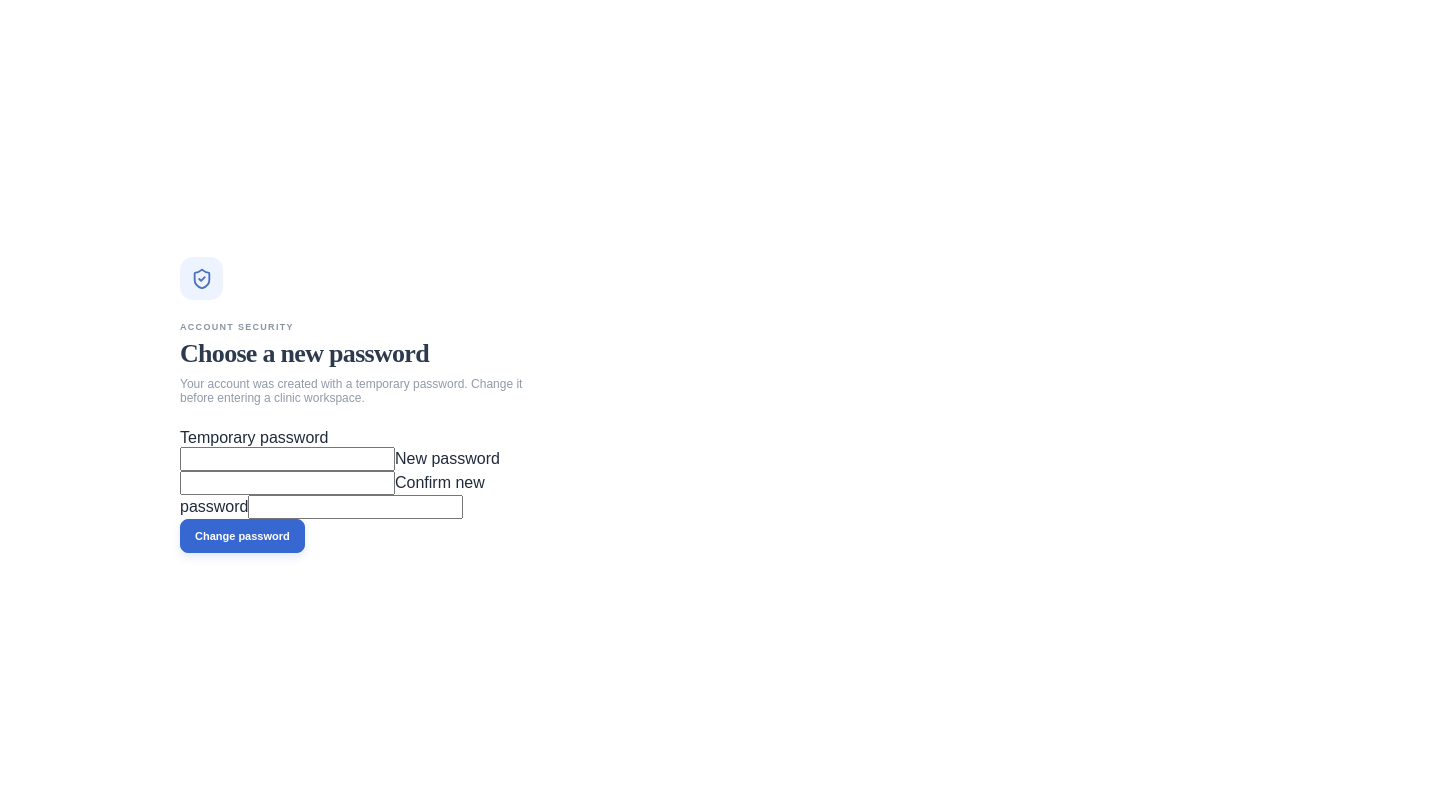
gates a first-login staff session until password change succeeds
The width and height of the screenshot is (1440, 810).
Expected: the heading "Choose a new password" is shown, [180,339,429,368]
Expected: the text "Patients" is not shown
Type "temporary-password" into the password field labelled "Temporary password" at (288, 459), box [180,447,395,471]
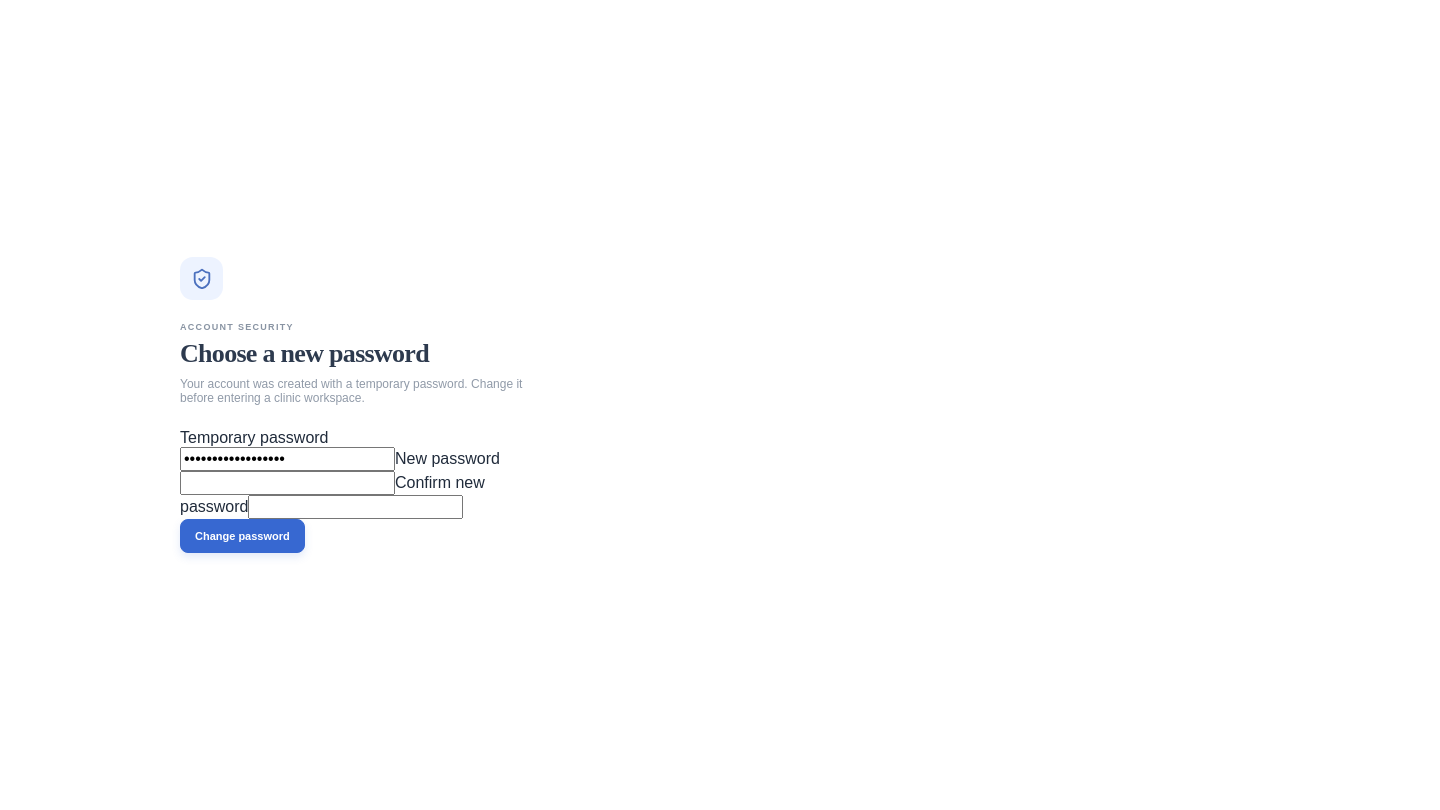
Type "A-new-password-123!" into the password field labelled "New password" at (288, 483), box [180,471,395,495]
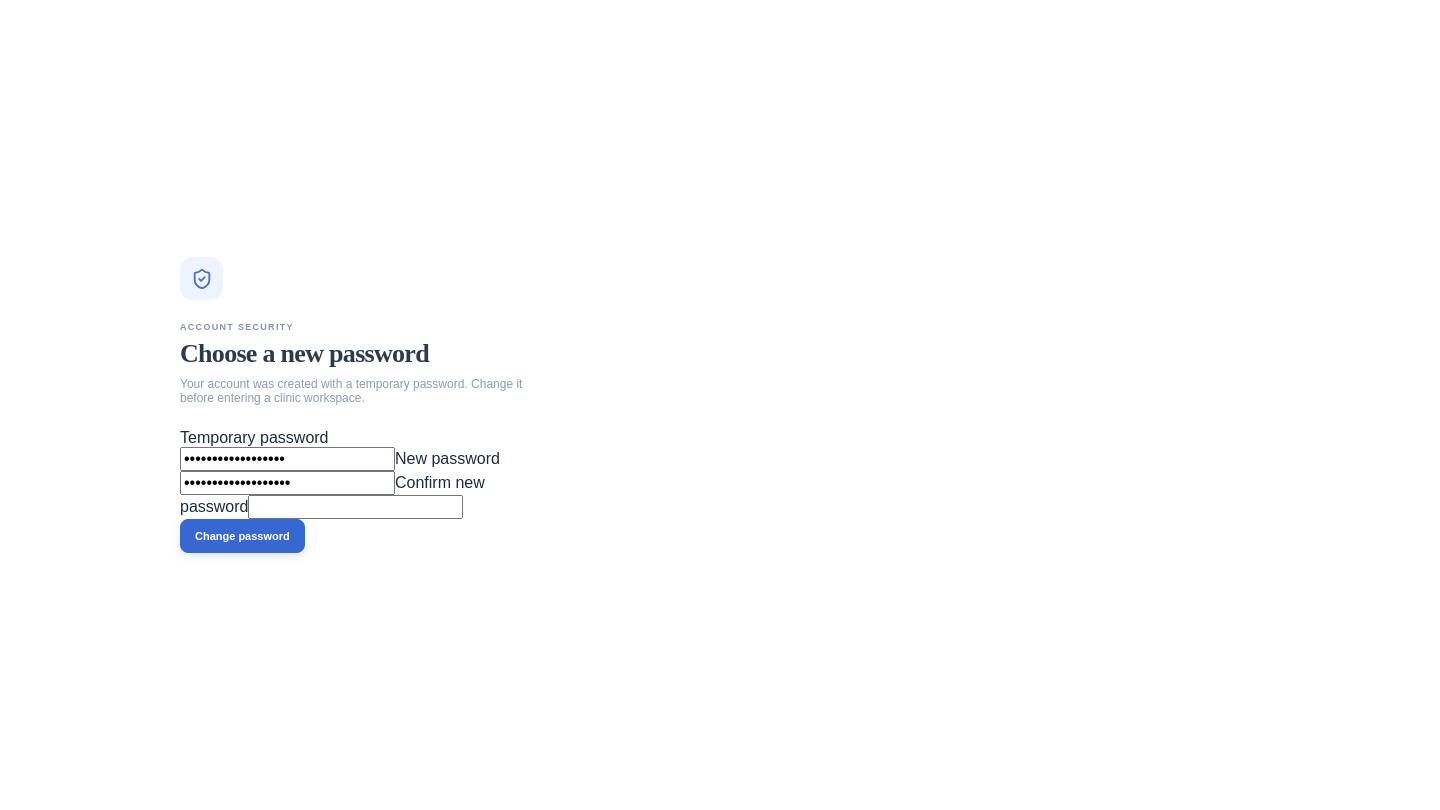
Type "A-new-password-123!" into the password field labelled "Confirm new password" at (356, 507), box [248,495,464,519]
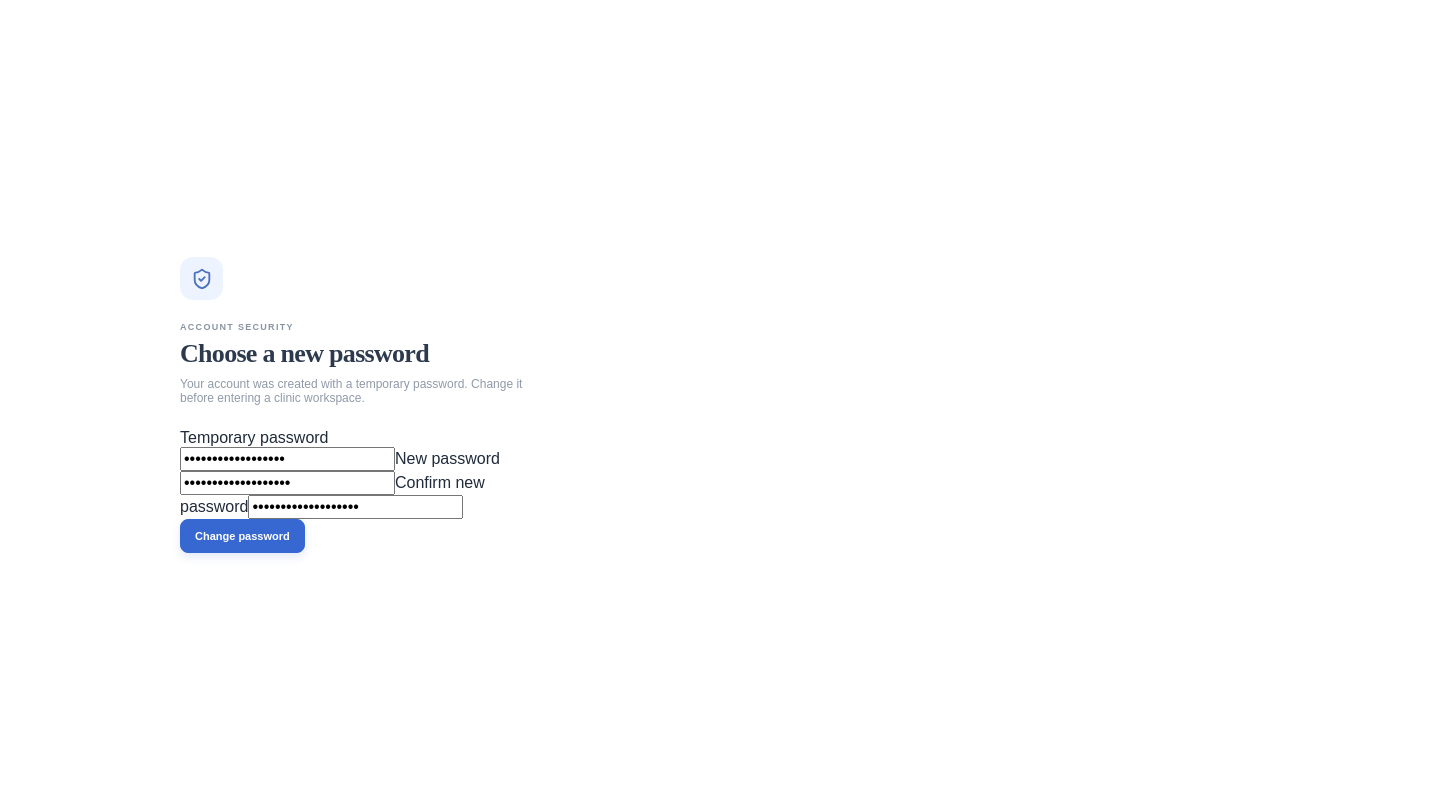
Click the button "Change password" at (242, 536), box [180,519,305,553]
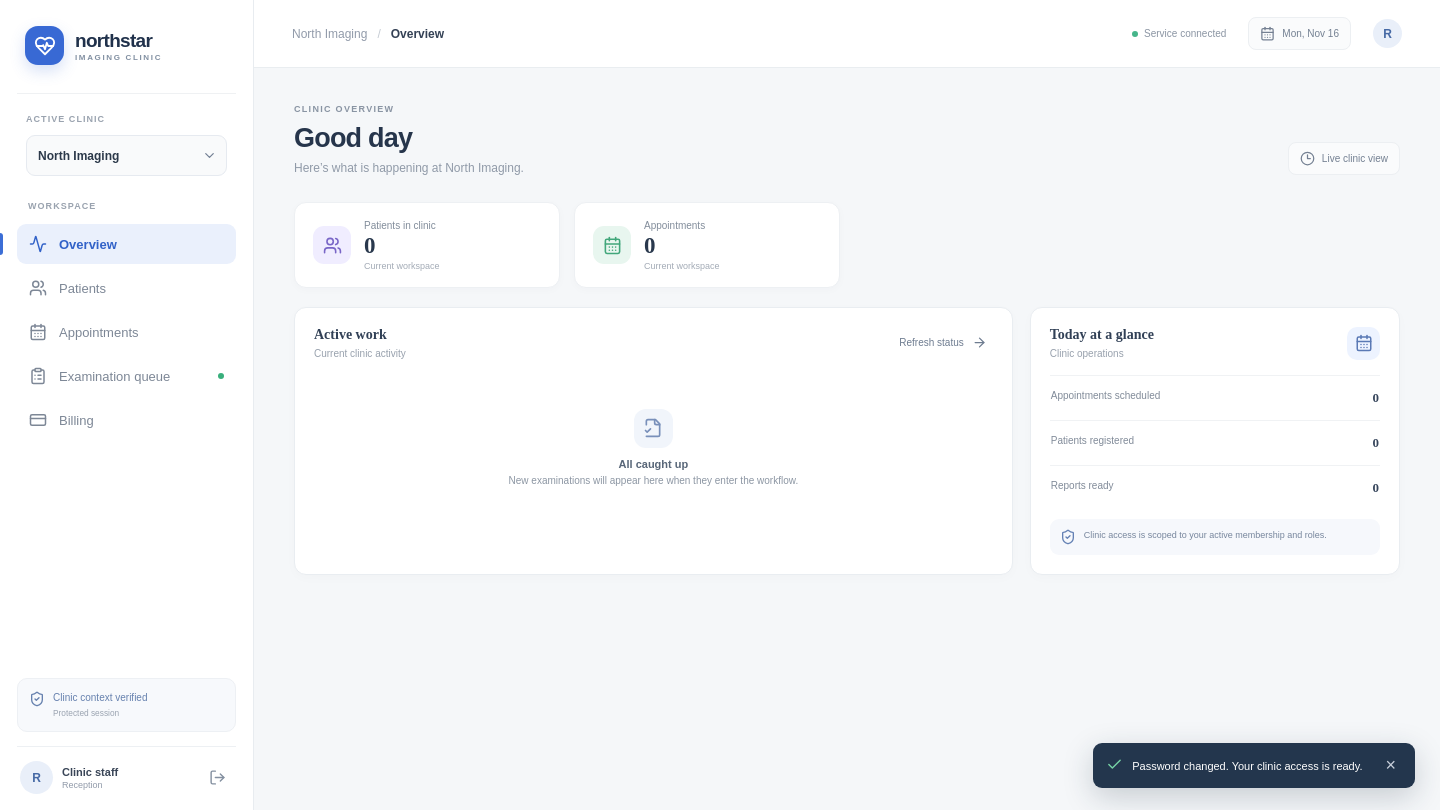
Result: the text "Patients" is shown at [59,280,106,296]
